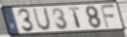3: (17, 8, 35, 33), (51, 7, 69, 31)
8: (86, 5, 103, 29)
F: (99, 4, 117, 29)
T: (67, 7, 82, 29)
U: (32, 7, 53, 32)
